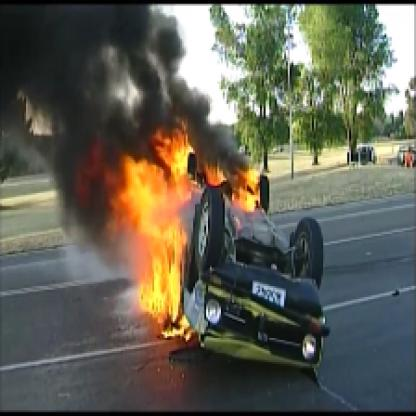Fire: (91, 91, 264, 344)
